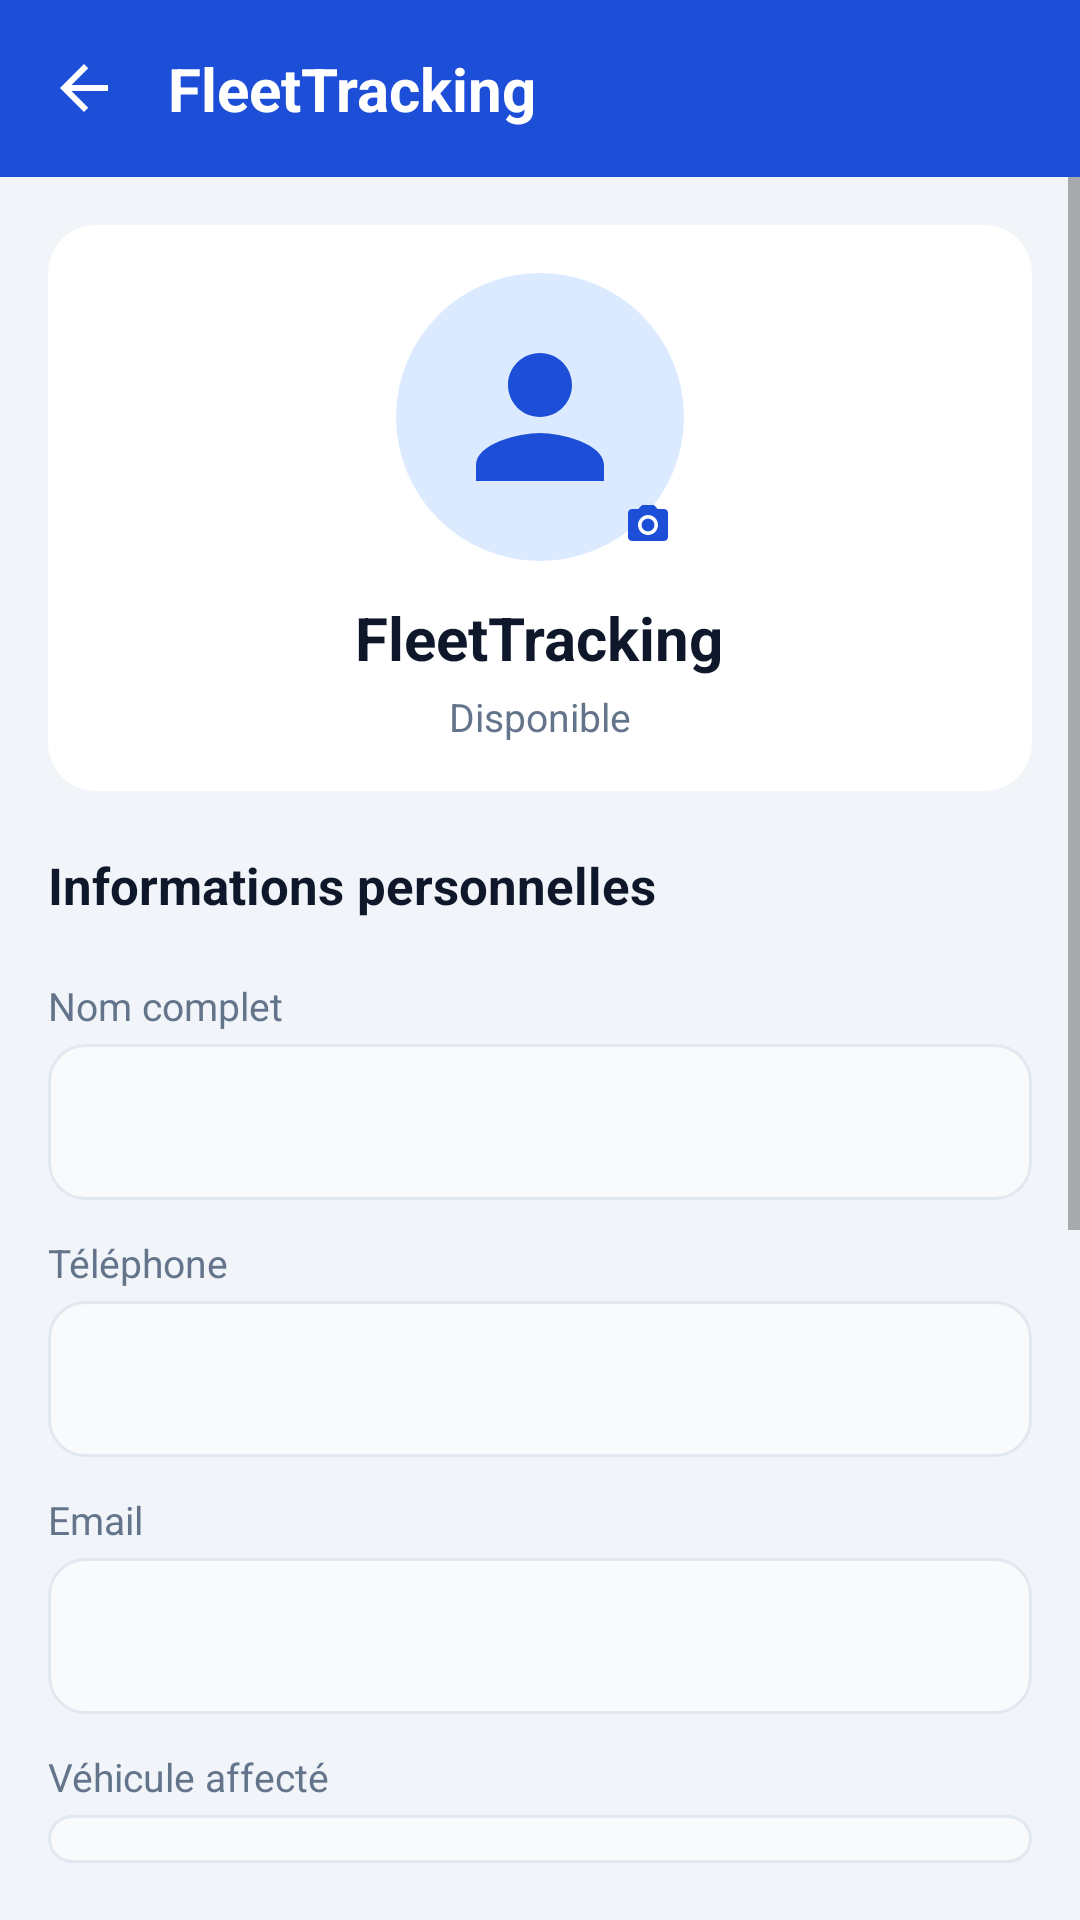

Screen size 1080x1920. Icon name, then its box in pixels as (x1, y1, x2, y2):
Retour: (60, 64, 108, 112)
